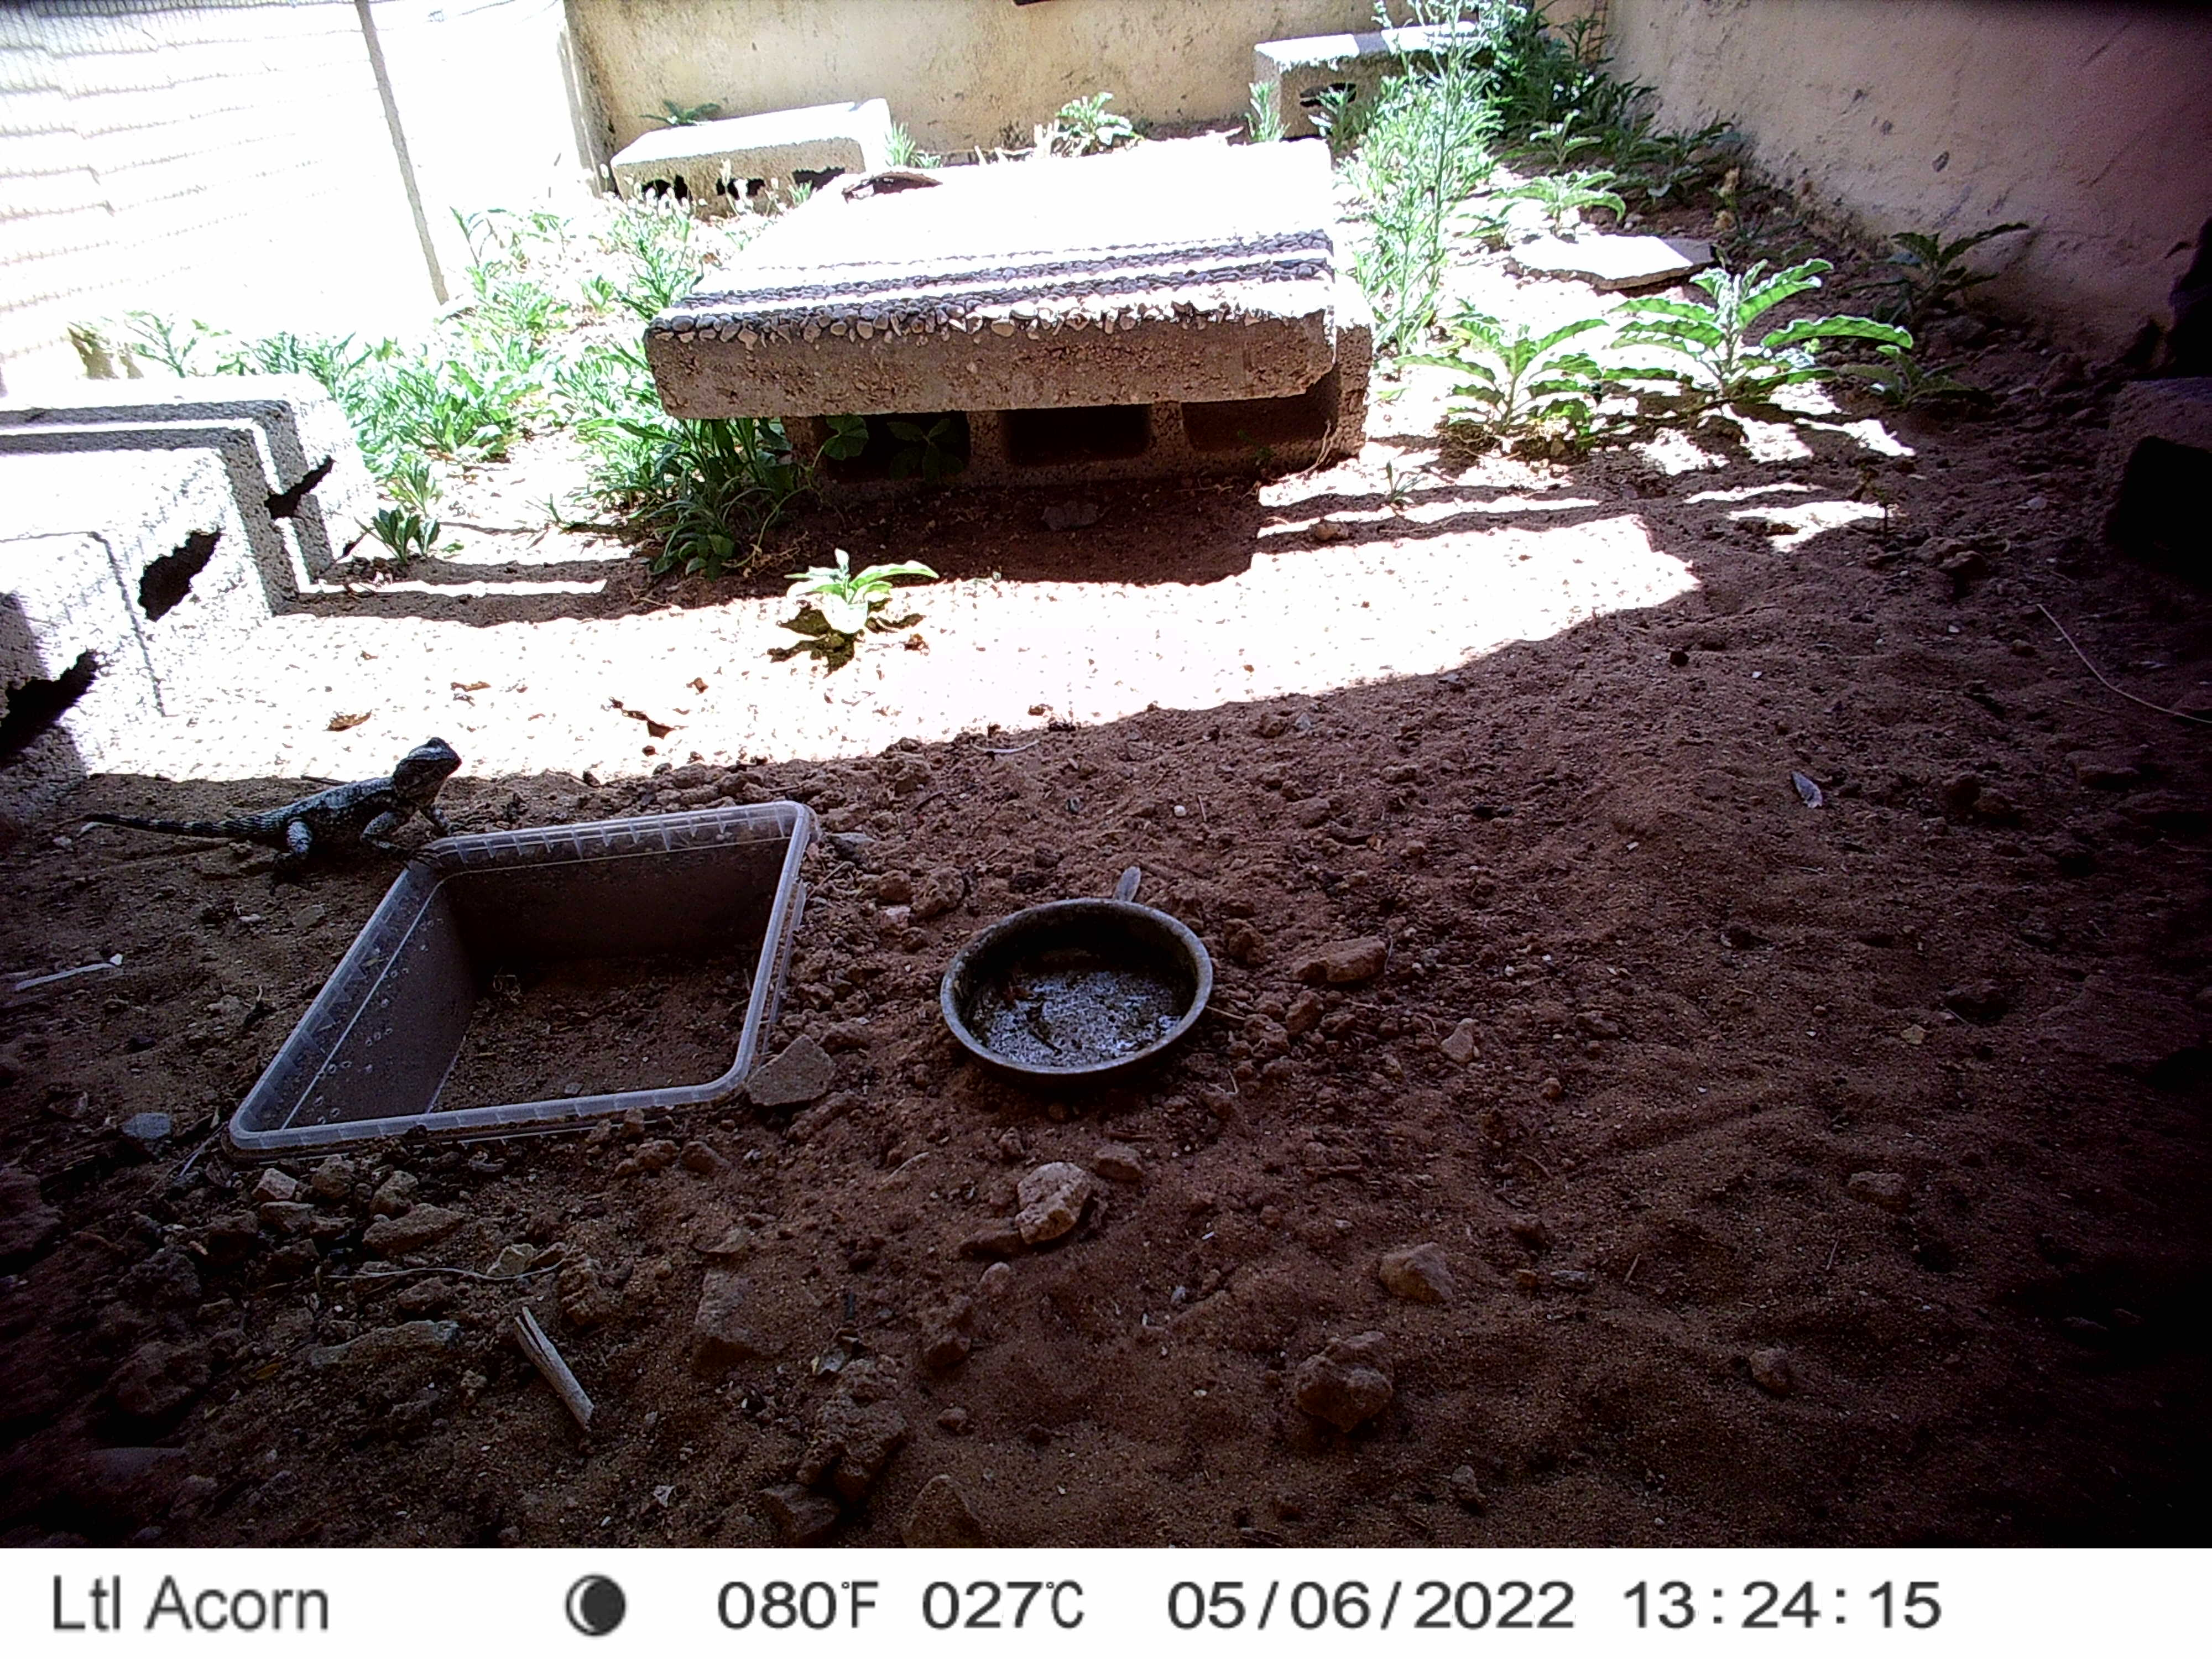lizard: (85, 734, 469, 892)
